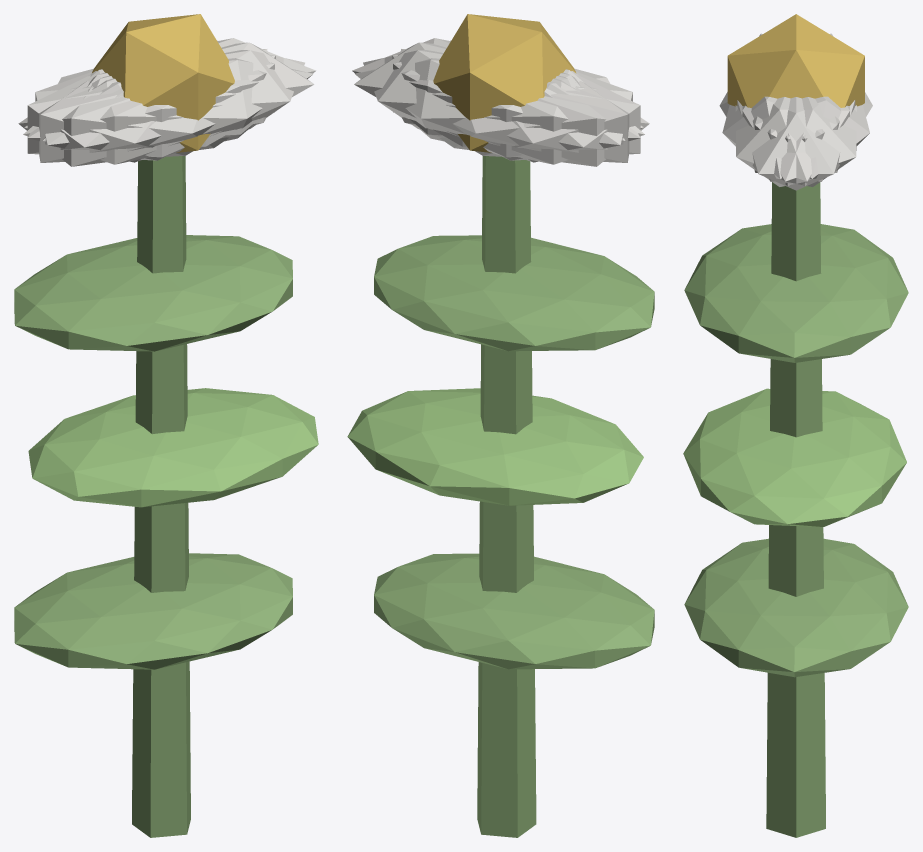
File: mallotus-repandus.glb
3 views of the same model, side by side, from view 1: azimuth 30°, elevation 25°; view 2: azimuth 150°, elevation 25°; view 3: azimuth 270°, elevation 25° (orthographic).
Visible parts, largest first — view 1: stem, leaf1, leaf2, leaf0, center, petal1, petal6, petal2, petal5, petal7, petal0, petal4 (+2 smaller); view 2: stem, leaf1, leaf2, leaf0, center, petal8, petal3, petal7, petal4, petal2, petal0, petal5 (+2 smaller); view 3: stem, leaf1, leaf2, leaf0, center, petal0, petal4, petal5, petal8, petal1.
Part boxes in pixels (x1,y1,x2,y2): stem: (132,156,190,837); leaf1: (28,388,318,507); leaf2: (14,235,292,351); leaf0: (14,553,292,669); center: (92,14,234,152); petal1: (23,58,313,164); petal6: (18,71,228,166); petal2: (39,49,267,162); petal5: (43,50,304,157); petal7: (27,55,275,160); petal0: (91,42,313,147); petal4: (24,38,315,138); stem: (477,156,536,837); leaf1: (347,388,643,505); leaf2: (374,235,654,351); leaf0: (374,553,654,669); center: (433,14,576,152); petal8: (355,58,644,164); petal3: (439,71,649,166); petal7: (401,49,629,162); petal4: (363,50,625,157); petal2: (392,55,640,160); petal0: (354,42,576,147); petal5: (352,38,643,138); stem: (766,182,825,837); leaf1: (683,388,906,526); leaf2: (684,224,908,362); leaf0: (684,538,908,677); center: (727,14,864,107); petal0: (737,97,855,190); petal4: (742,97,856,186); petal5: (735,97,849,186); petal8: (752,96,869,178); petal1: (722,96,839,178).
Bounding box in the file's own units: 0.1498 × 0.3897 × 0.1005.
